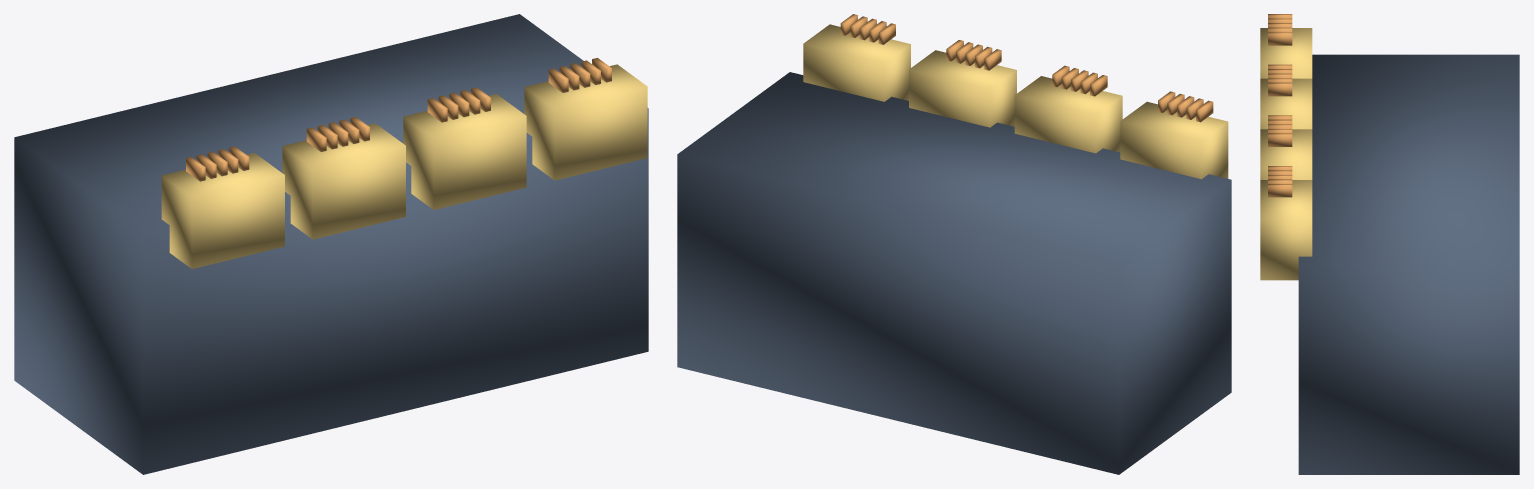
The model's file is 20_L85_ProtectedServiceVehicleAvionics.glb.
3 views of the same model, side by side, from view 1: azimuth 30°, elevation 25°; view 2: azimuth 150°, elevation 25°; view 3: azimuth 270°, elevation 25° (orthographic). The views are drawn at different scales.
Parts seen in each view (by area): view 1: L85_ProtectedServiceVehicleAv_Part_0000, L85_ProtectedServiceVehicleAv_Part_0001, L85_ProtectedServiceVehicleAv_Part_0002, L85_ProtectedServiceVehicleAv_Part_0003; view 2: L85_ProtectedServiceVehicleAv_Part_0000, L85_ProtectedServiceVehicleAv_Part_0001, L85_ProtectedServiceVehicleAv_Part_0002, L85_ProtectedServiceVehicleAv_Part_0003; view 3: L85_ProtectedServiceVehicleAv_Part_0000, L85_ProtectedServiceVehicleAv_Part_0001, L85_ProtectedServiceVehicleAv_Part_0002, L85_ProtectedServiceVehicleAv_Part_0003.
Part boxes in pixels (x1,y1,x2,y2): L85_ProtectedServiceVehicleAv_Part_0000: (14,14,648,474); L85_ProtectedServiceVehicleAv_Part_0001: (161,64,647,268); L85_ProtectedServiceVehicleAv_Part_0002: (186,90,480,181); L85_ProtectedServiceVehicleAv_Part_0003: (471,58,611,111); L85_ProtectedServiceVehicleAv_Part_0000: (677,72,1231,474); L85_ProtectedServiceVehicleAv_Part_0001: (803,24,1228,179); L85_ProtectedServiceVehicleAv_Part_0002: (956,42,1213,122); L85_ProtectedServiceVehicleAv_Part_0003: (840,14,963,61); L85_ProtectedServiceVehicleAv_Part_0000: (1298,54,1519,474); L85_ProtectedServiceVehicleAv_Part_0001: (1260,28,1312,280); L85_ProtectedServiceVehicleAv_Part_0002: (1268,14,1292,133); L85_ProtectedServiceVehicleAv_Part_0003: (1268,133,1292,197).
Size of the model in its own units: 1.63 by 0.955 by 0.845.
